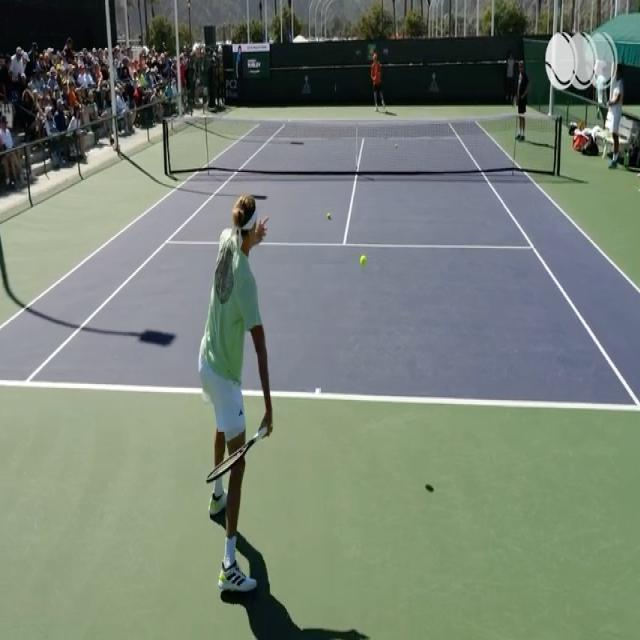backhand-stroke: (182, 197, 322, 611)
